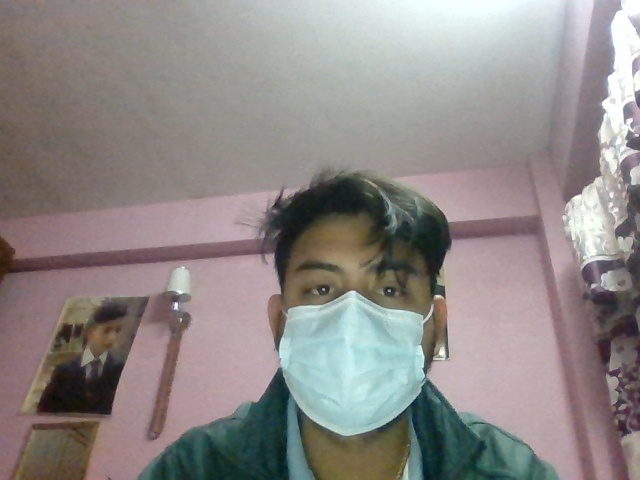mask: (278, 304, 433, 439)
